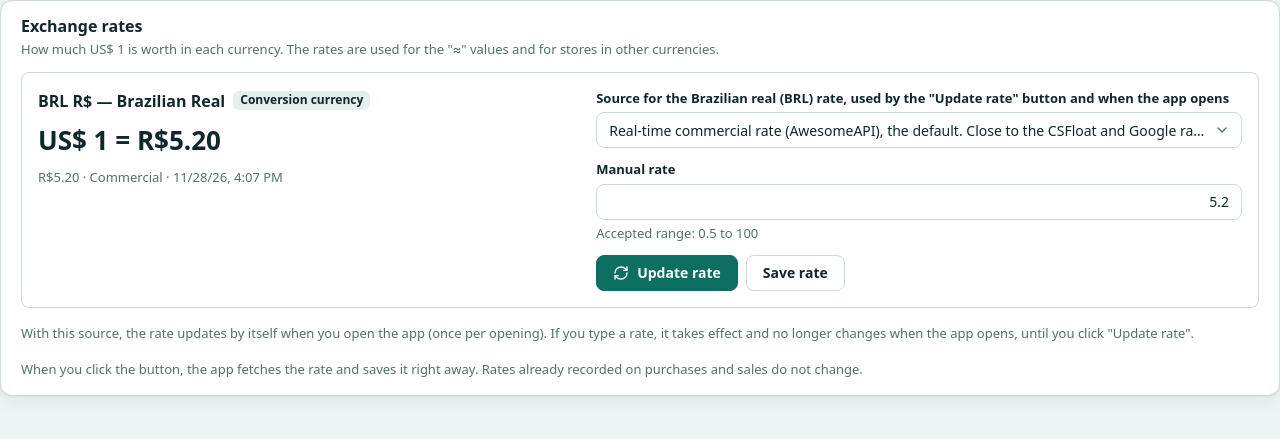
Test case: Cotações › dentro da faixa não avisa; o servidor recusando mostra o erro no campo
Replace the text in the field labelled "Manual rate" with "5.5" at (919, 202), box [609,185,1229,219]
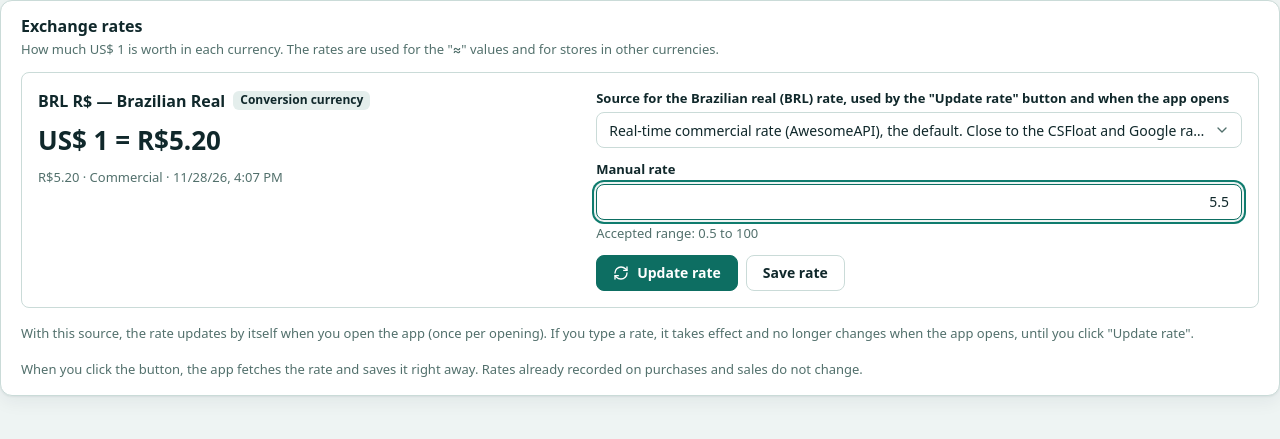
Click the button "Save rate".
click(795, 273)  # box [746,255,845,291]
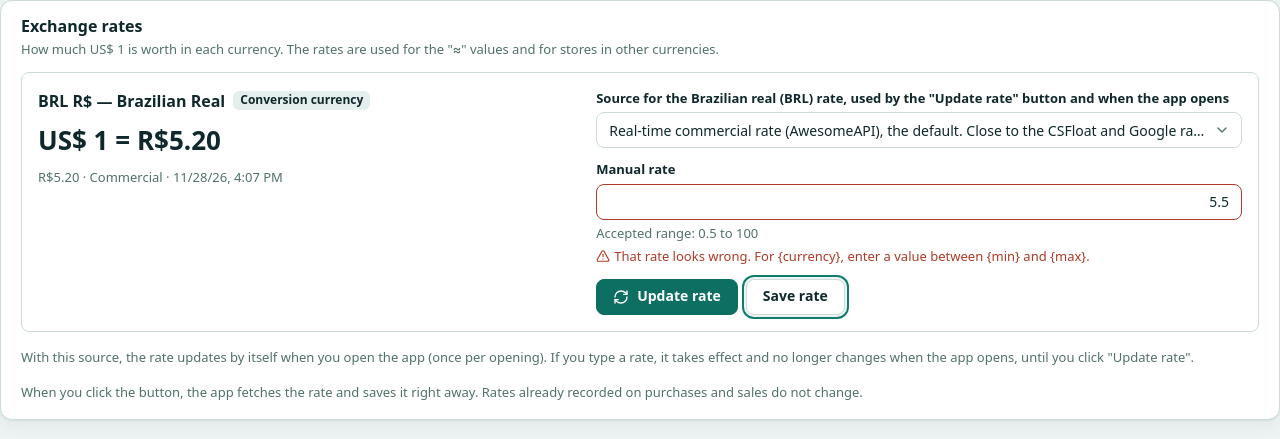
Expected: the text "That rate looks wrong" is shown, [614,247,1090,265]
